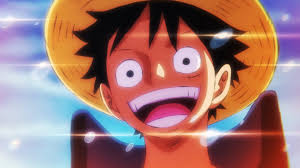luffy: (43, 1, 281, 149)
